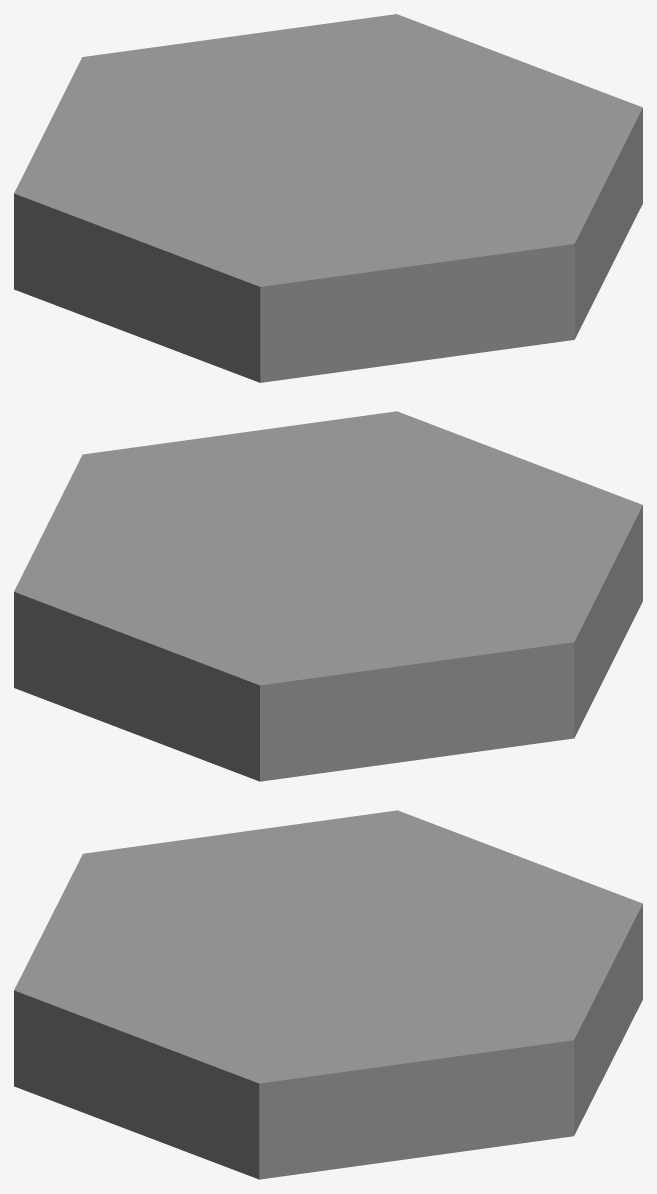
The model's file is SM_Gen_Prop_Coin_01.glb.
3 views of the same model, one above another, from view 1: azimuth 30°, elevation 25°; view 2: azimuth 150°, elevation 25°; view 3: azimuth 270°, elevation 25° (orthographic).
Parts seen in each view (by area): view 1: SM_Gen_Prop_Coin_01; view 2: SM_Gen_Prop_Coin_01; view 3: SM_Gen_Prop_Coin_01.
Boxes of the visible parts, <box> form: SM_Gen_Prop_Coin_01: <box>14,14,642,382</box>; SM_Gen_Prop_Coin_01: <box>14,411,642,781</box>; SM_Gen_Prop_Coin_01: <box>14,810,642,1179</box>.
Bounding box in the file's own units: 0.1208 × 0.0198 × 0.1175.
1 material, 1 textured.
